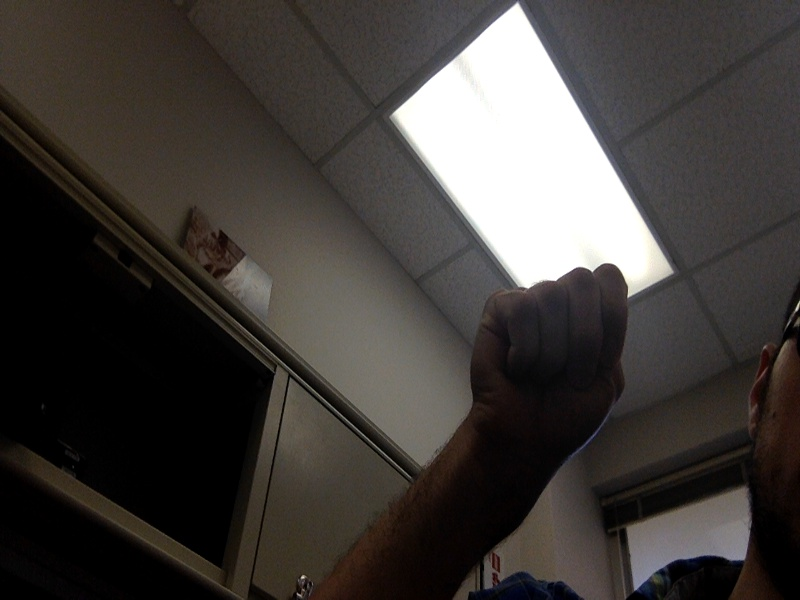0-hand: (471, 265, 630, 449)
